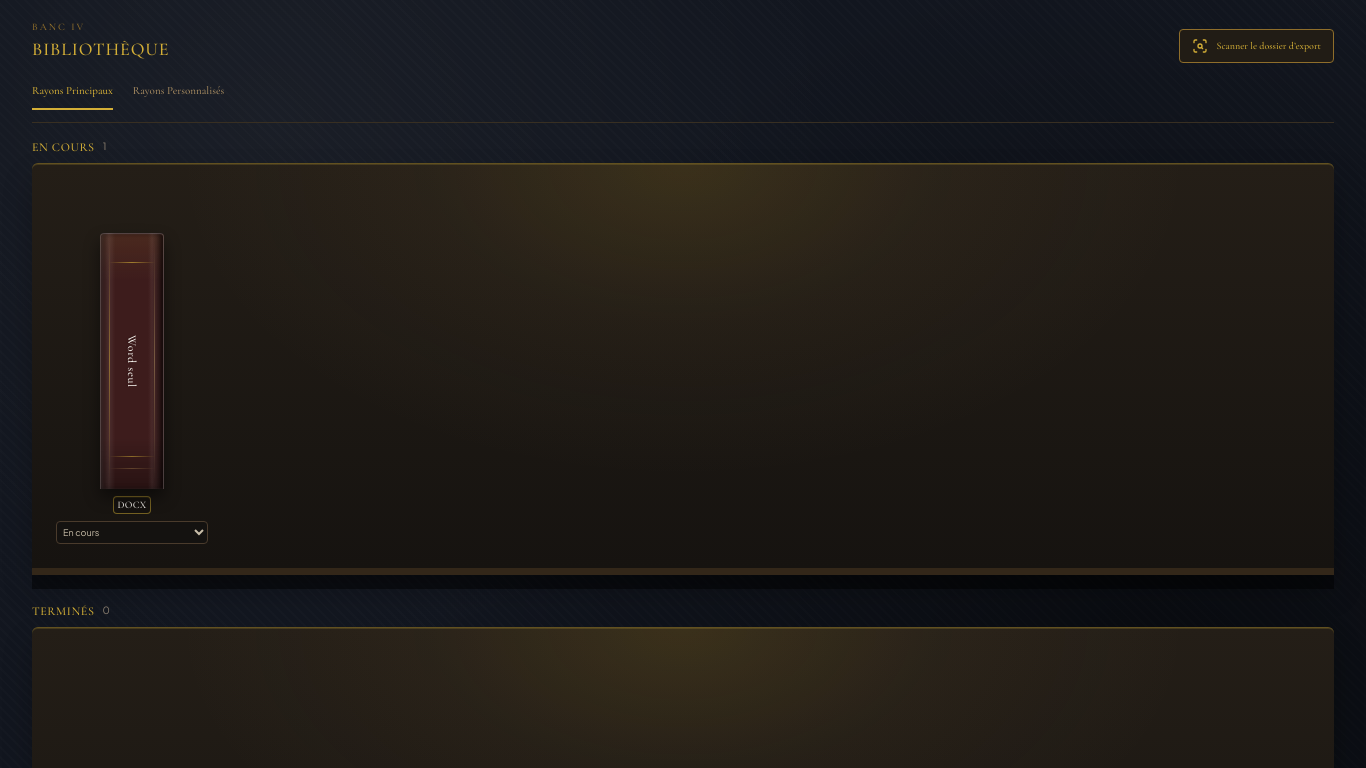
Scenario: LibraryView › does not reuse aggregate PDF statistics for a DOCX without readable metadata
Click the button with aria-label "Inspecter Word seul" at (132, 360), box [100,232,164,488]
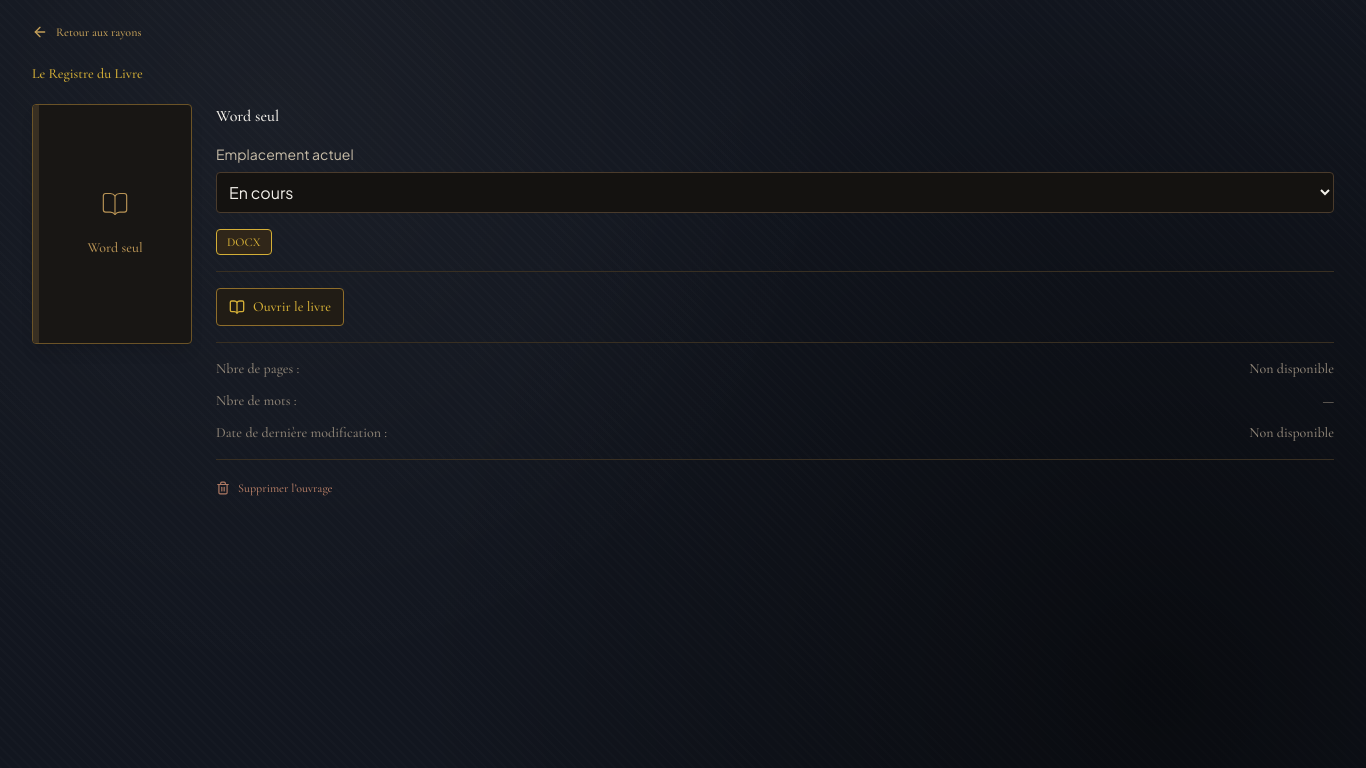
Result: the heading "Le Registre du Livre" is shown at [32,65,143,82]
Click the button "Ouvrir le livre" at (280, 307), box [216,288,344,326]
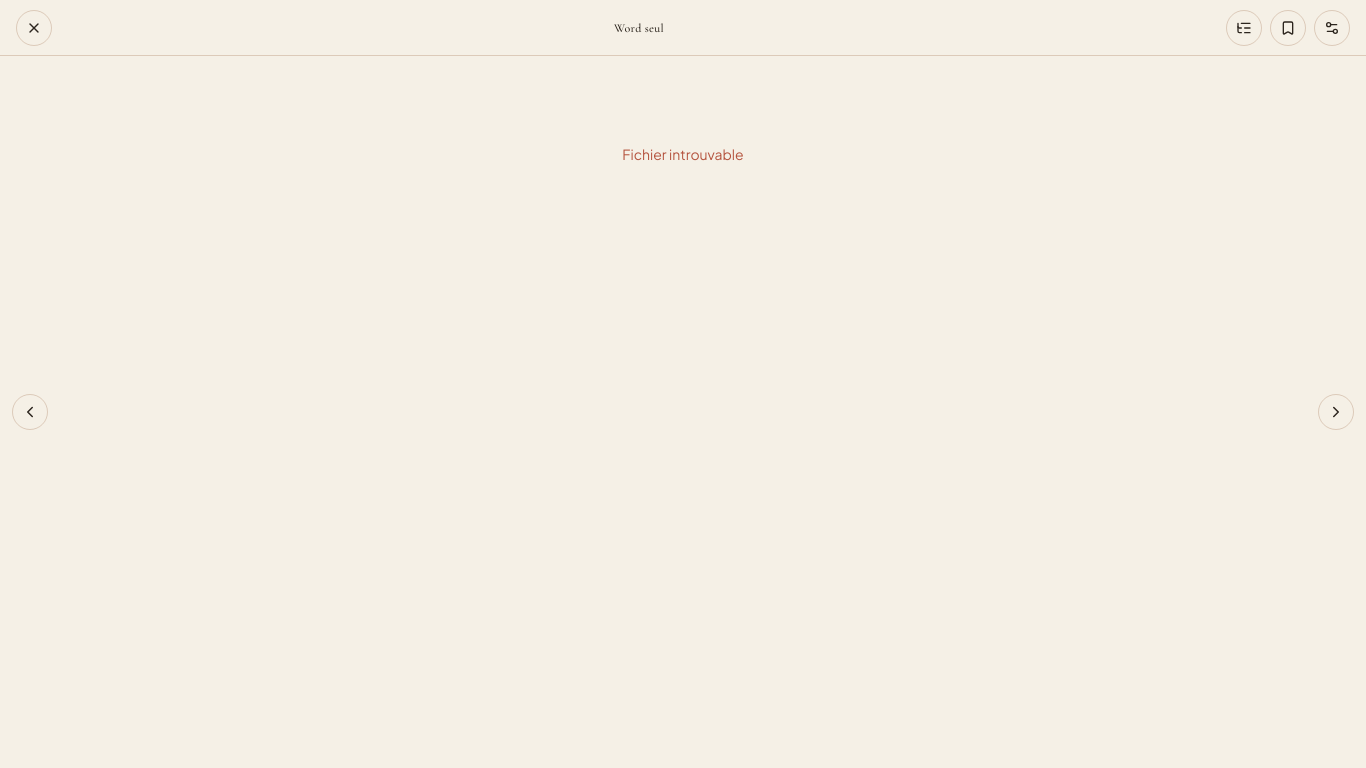
Result: the message reads "Fichier introuvable" at [622,145,744,163]
